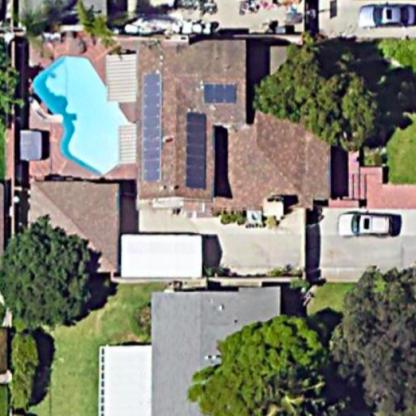car: (336, 211, 401, 249), (347, 3, 416, 33)
solar_panel: (139, 65, 172, 189), (181, 104, 213, 194), (202, 78, 243, 107)
swimming_pool: (35, 42, 140, 177)
